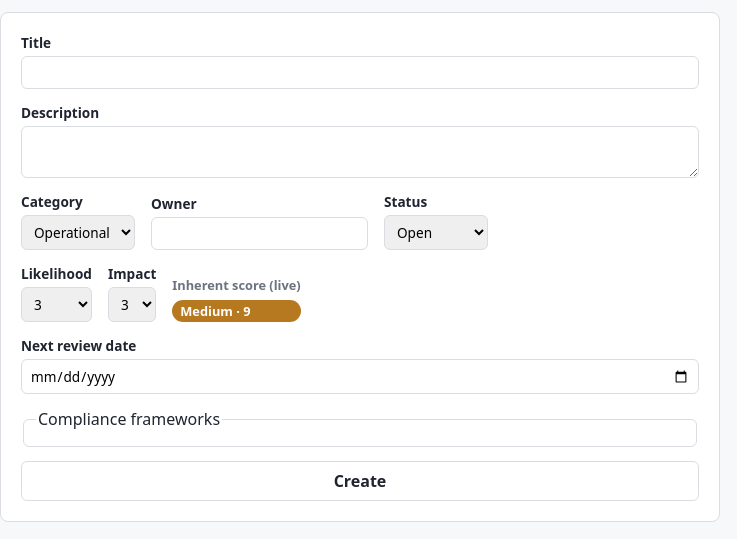
Test: RiskForm live inherent score › recomputes the inherent score badge as likelihood/impact change
Expected: the text "Medium · 9" is shown, [172,300,301,322]
Select "5" in the dropdown labelled "Likelihood": [56, 304] box [21,287,92,322]
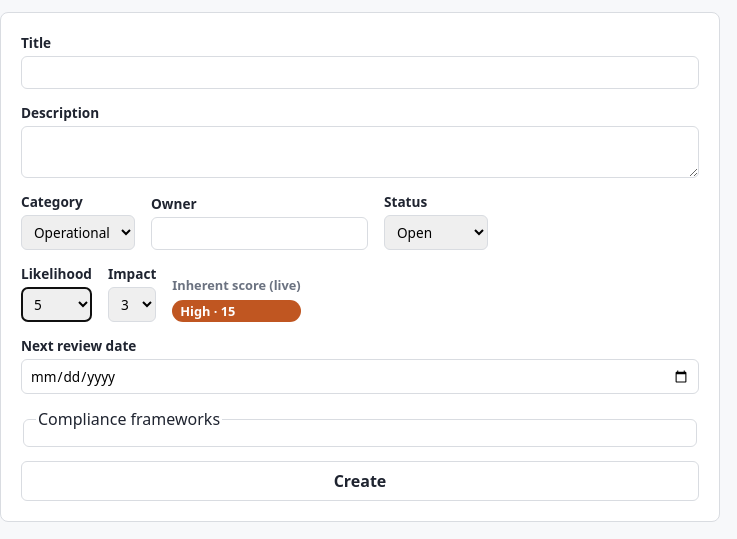
Select "5" in the dropdown labelled "Impact": [132, 304] box [108,287,156,322]
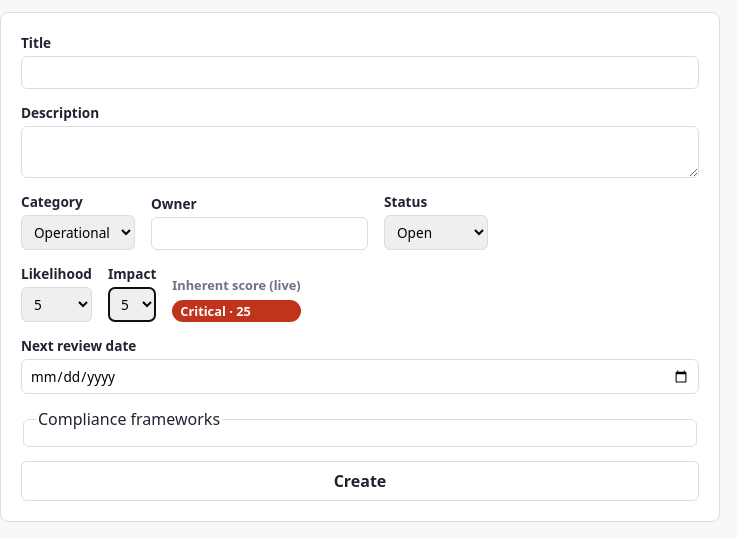
Expected: the text "Critical · 25" is shown, [172,300,301,322]
